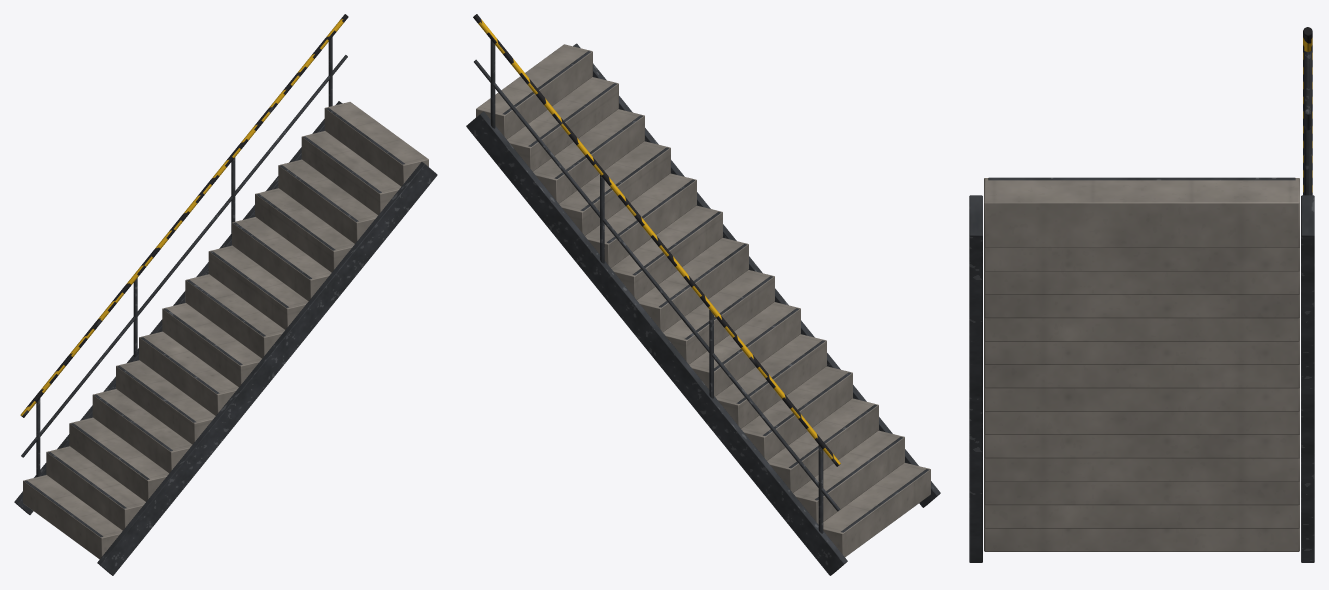
Rendered from BLD_Stairs_4m.glb.
3 views of the same model, side by side, from view 1: azimuth 30°, elevation 25°; view 2: azimuth 150°, elevation 25°; view 3: azimuth 270°, elevation 25° (orthographic). The views are drawn at different scales.
Parts seen in each view (by area): view 1: BLD_Stairs_4m_Mesh; view 2: BLD_Stairs_4m_Mesh; view 3: BLD_Stairs_4m_Mesh.
Part boxes in pixels (x1=…): BLD_Stairs_4m_Mesh: x1=14, y1=14, x2=437, y2=575; BLD_Stairs_4m_Mesh: x1=466, y1=14, x2=940, y2=575; BLD_Stairs_4m_Mesh: x1=969, y1=27, x2=1314, y2=562.
Bounding box in the file's own units: 3.95 × 4.72 × 1.75.
3 materials, 3 textured.
